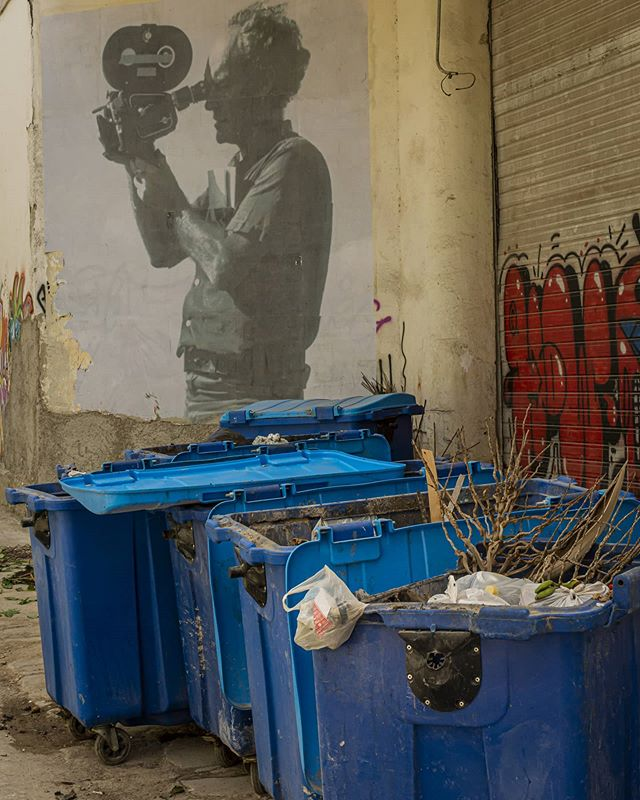dumpster: (1, 407, 633, 800)
graffiti: (38, 1, 370, 404), (483, 263, 640, 509)
